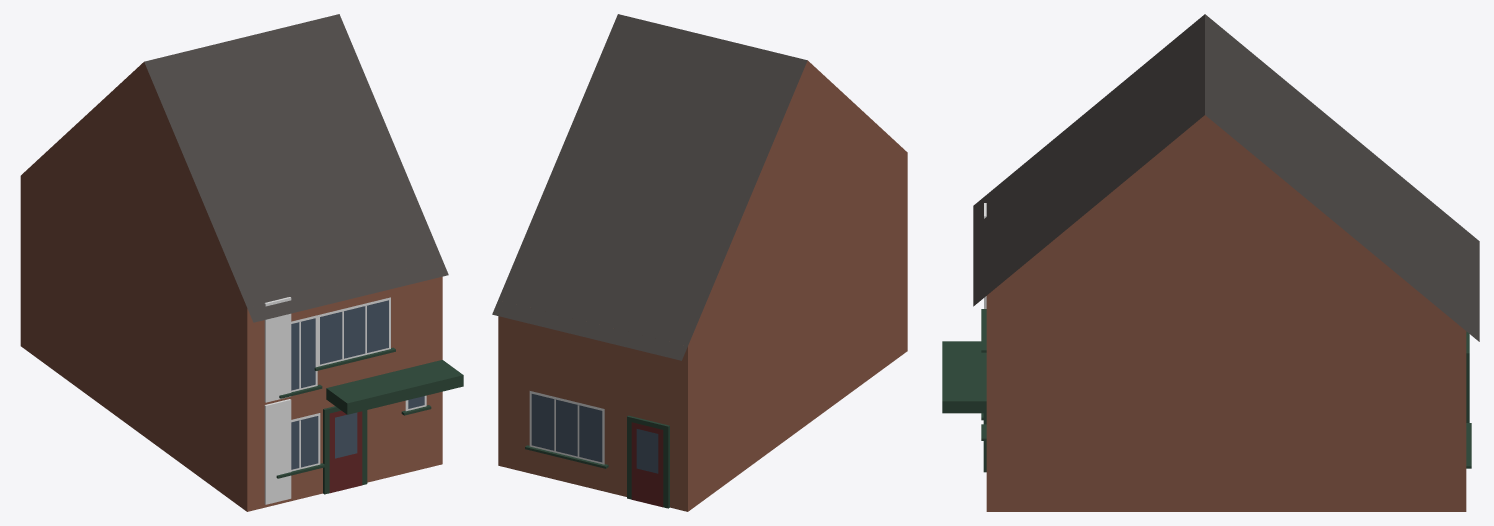
Rendered from zo-g4-canopy-pair__green-canopy__2__gable__long__solid__mirror.glb.
3 views of the same model, side by side, from view 1: azimuth 30°, elevation 25°; view 2: azimuth 150°, elevation 25°; view 3: azimuth 270°, elevation 25° (orthographic). The views are drawn at different scales.
Visible parts, largest first — view 1: zo-g4-canopy-pair__green-canopy__2__gable__long__solid__mirr; view 2: zo-g4-canopy-pair__green-canopy__2__gable__long__solid__mirr; view 3: zo-g4-canopy-pair__green-canopy__2__gable__long__solid__mirr.
Boxes of the visible parts, box(x1,y1,x2,y2) form: zo-g4-canopy-pair__green-canopy__2__gable__long__solid__mirr: box(20, 14, 463, 511); zo-g4-canopy-pair__green-canopy__2__gable__long__solid__mirr: box(492, 14, 907, 511); zo-g4-canopy-pair__green-canopy__2__gable__long__solid__mirr: box(942, 14, 1479, 511).
Bounding box in the file's own units: 5.38 × 9.86 × 12.1.
